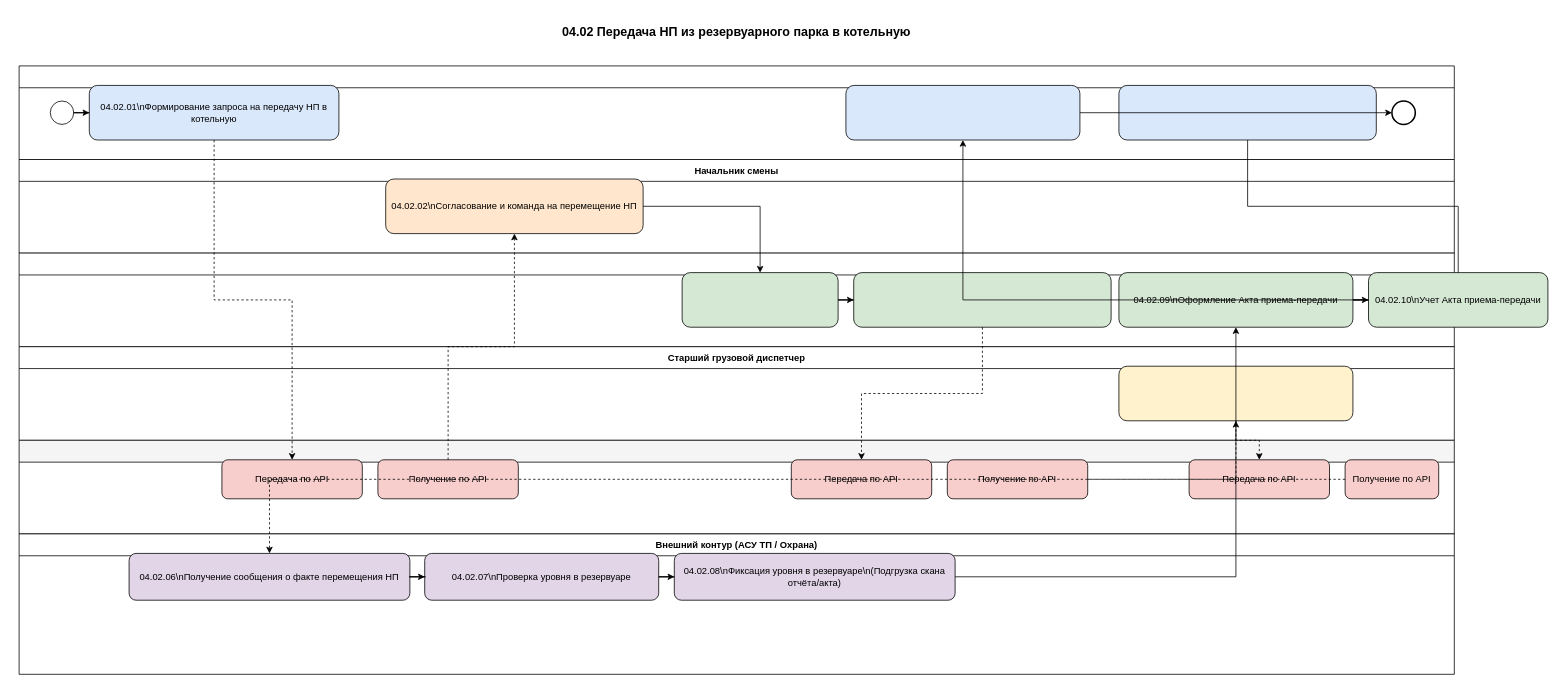
The diagram is 1562 pixels wide and 688 high, and some of its shapes have lost their labels. Here are the shapes that lost their labels. From the top down, the box of each, then its label:
(18, 65, 1454, 160): Сотрудник котельной
(845, 85, 1080, 140): 04.02.11 Закрытие запроса
(1118, 85, 1376, 140): 04.02.11\nЗакрытие запроса на передачу НП в котельную
(18, 252, 1454, 347): Диспетчер АСУ ТПП
(681, 272, 838, 327): 04.02.03\nТО перемещения
(853, 272, 1111, 327): 04.02.04\nСообщение о завершении ТО перемещения НП
(1118, 365, 1353, 421): 04.02.05\nФиксация факта перемещения НП
(18, 440, 1454, 534): Система
